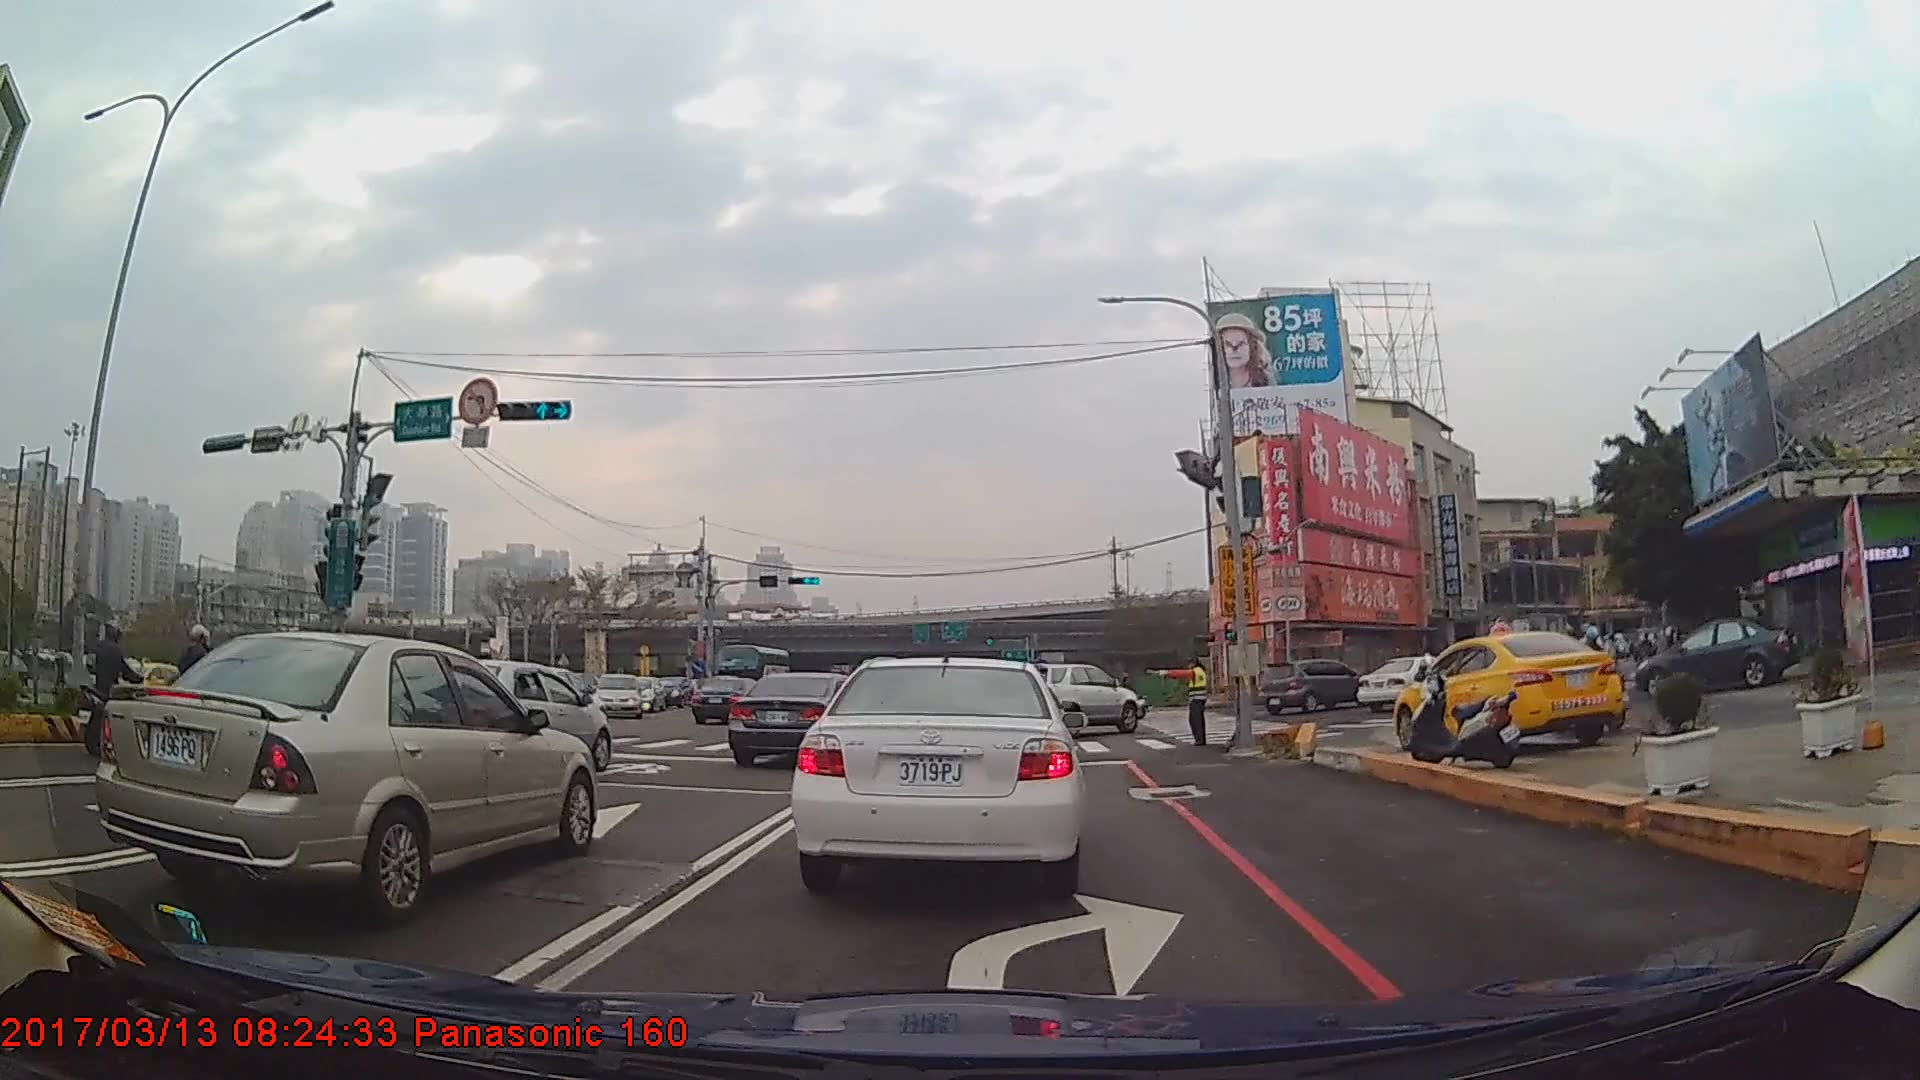pedestrian: (1146, 657, 1211, 749)
rider: (77, 620, 155, 758)
vehicle: (94, 630, 602, 918), (783, 655, 1086, 888), (1391, 629, 1629, 749), (426, 656, 613, 776), (1629, 615, 1803, 697), (727, 671, 870, 762), (1024, 659, 1138, 737), (1354, 653, 1458, 713), (1258, 658, 1368, 714), (688, 671, 772, 725), (594, 671, 643, 717)
